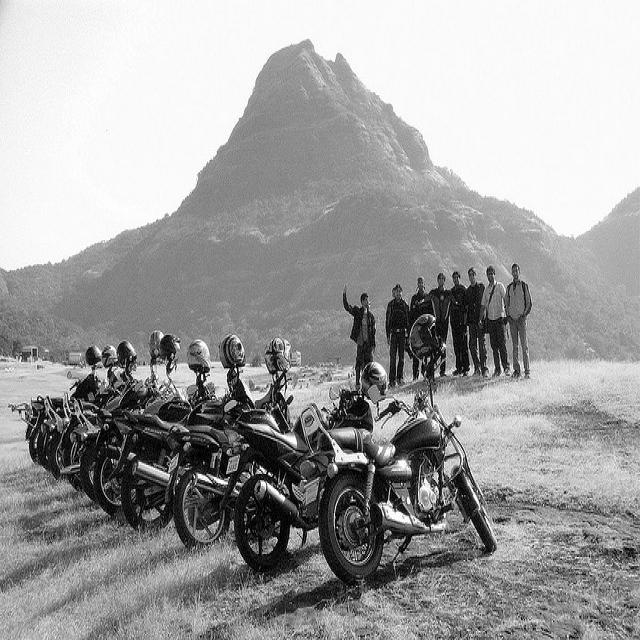motor: (303, 343, 495, 587), (222, 387, 375, 570), (66, 332, 219, 515), (121, 334, 253, 538), (154, 370, 299, 555), (44, 348, 159, 481), (8, 344, 108, 466), (58, 394, 97, 501), (91, 334, 138, 409), (30, 393, 53, 473)
